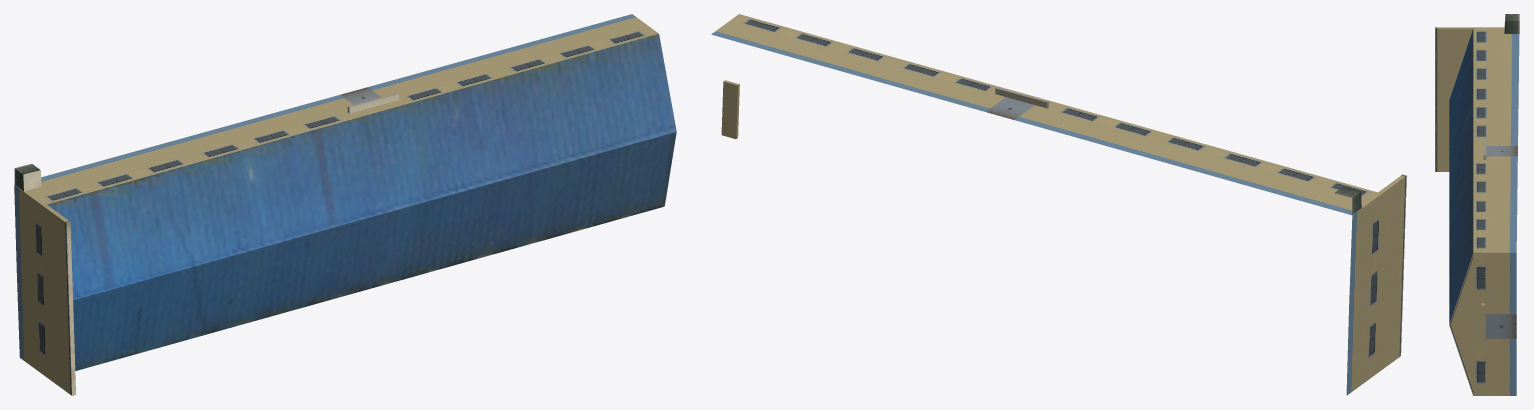
3 renders of one model, left to right at view 1: azimuth 30°, elevation 25°; view 2: azimuth 150°, elevation 25°; view 3: azimuth 270°, elevation 25°, orthographic. The views are drawn at different scales.
Visible parts, largest first — view 1: Group_MatrixTransform_i96159_Geometry_7, Group_MatrixTransform_i96159_Geometry_1, Group_MatrixTransform_i96159_Geometry_2, Group_MatrixTransform_i96159_Geometry_8, Group_MatrixTransform_i96159_Geometry_0; view 2: Group_MatrixTransform_i96159_Geometry_1, Group_MatrixTransform_i96159_Geometry_2, Group_MatrixTransform_i96159_Geometry_0; view 3: Group_MatrixTransform_i96159_Geometry_1, Group_MatrixTransform_i96159_Geometry_7, Group_MatrixTransform_i96159_Geometry_2, Group_MatrixTransform_i96159_Geometry_0, Group_MatrixTransform_i96159_Geometry_3, Group_MatrixTransform_i96159_Geometry_4.
Part boxes in pixels (box(x1,y1,x2,y2)): Group_MatrixTransform_i96159_Geometry_7: box(47, 34, 676, 370); Group_MatrixTransform_i96159_Geometry_1: box(14, 14, 658, 377); Group_MatrixTransform_i96159_Geometry_2: box(43, 204, 71, 395); Group_MatrixTransform_i96159_Geometry_8: box(23, 94, 398, 395); Group_MatrixTransform_i96159_Geometry_0: box(327, 84, 405, 118); Group_MatrixTransform_i96159_Geometry_1: box(711, 14, 1382, 395); Group_MatrixTransform_i96159_Geometry_2: box(721, 80, 1406, 373); Group_MatrixTransform_i96159_Geometry_0: box(975, 88, 1055, 123); Group_MatrixTransform_i96159_Geometry_1: box(1473, 27, 1519, 395); Group_MatrixTransform_i96159_Geometry_7: box(1449, 29, 1473, 323); Group_MatrixTransform_i96159_Geometry_2: box(1435, 27, 1484, 395); Group_MatrixTransform_i96159_Geometry_0: box(1473, 141, 1517, 348); Group_MatrixTransform_i96159_Geometry_3: box(1504, 20, 1519, 33); Group_MatrixTransform_i96159_Geometry_4: box(1505, 14, 1519, 20).
Bounding box in the file's own units: 61.75 × 18.48 × 8.98.
Materials: 9 (9 with a texture image).
